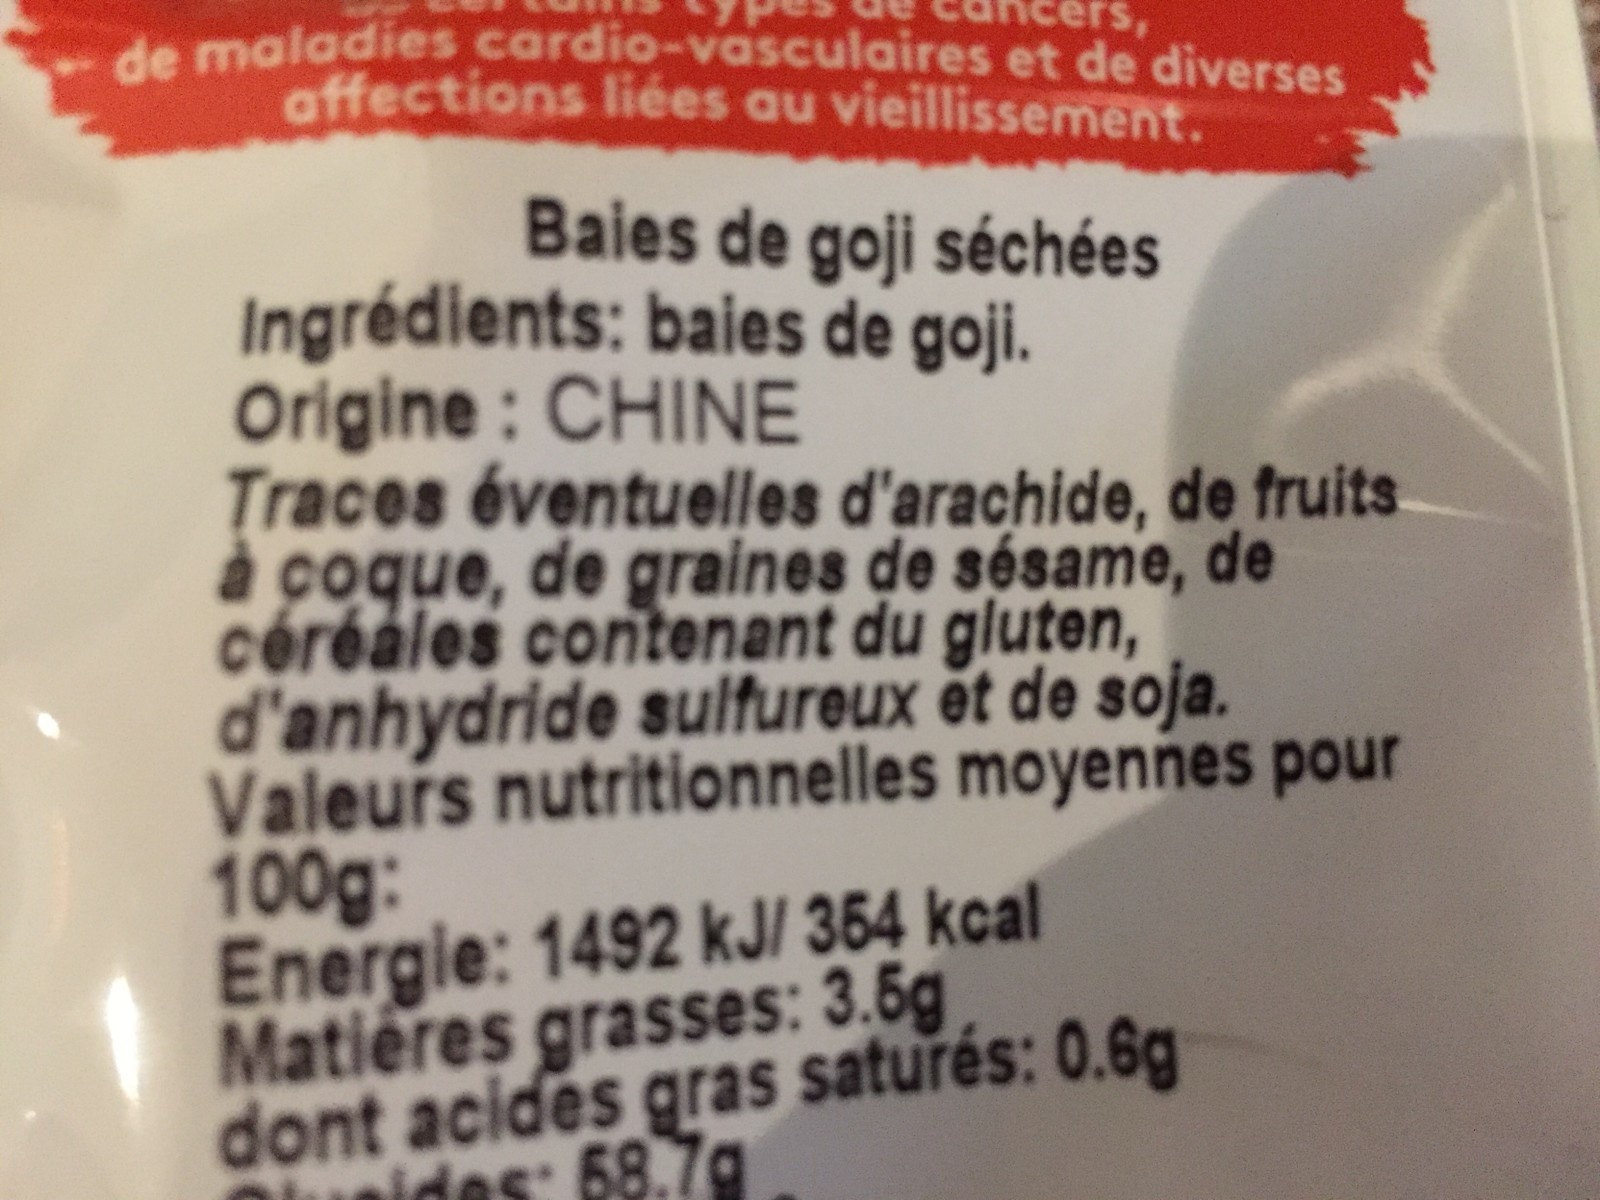ingredients: (193, 281, 1109, 377)
